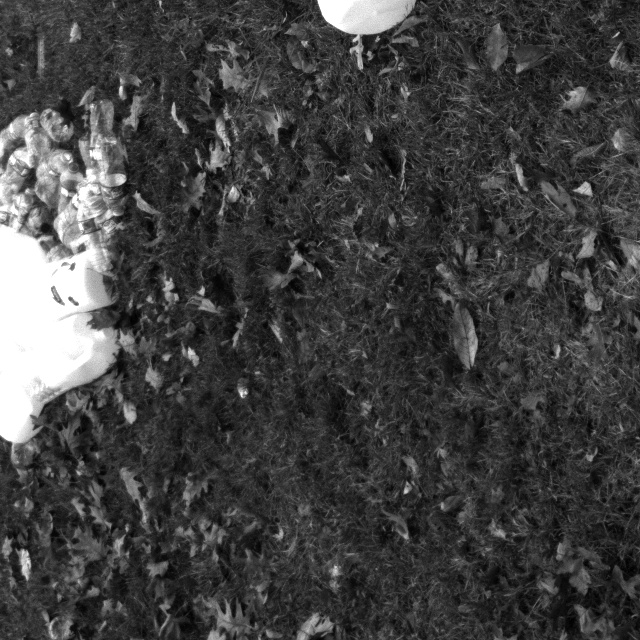bottle: (76, 204, 111, 273), (97, 136, 126, 215), (87, 100, 117, 167), (36, 151, 74, 198), (56, 161, 85, 221), (22, 111, 50, 161), (38, 108, 74, 143)
can: (19, 314, 115, 402), (25, 251, 119, 323)
